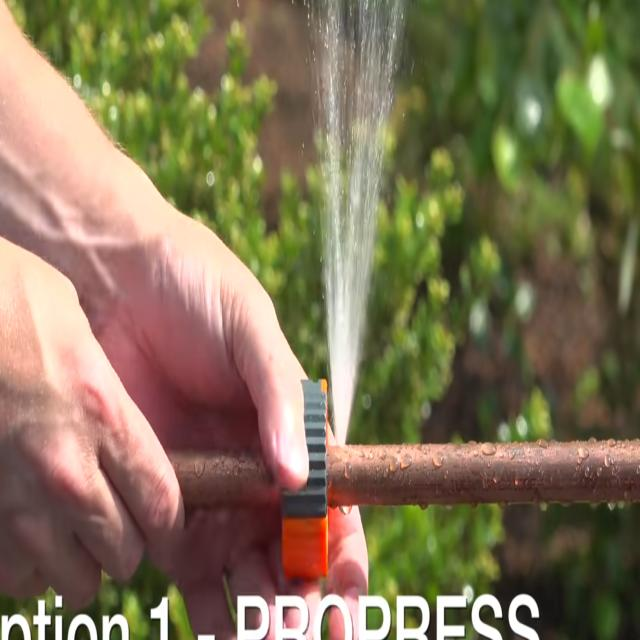leak: (301, 0, 411, 448)
